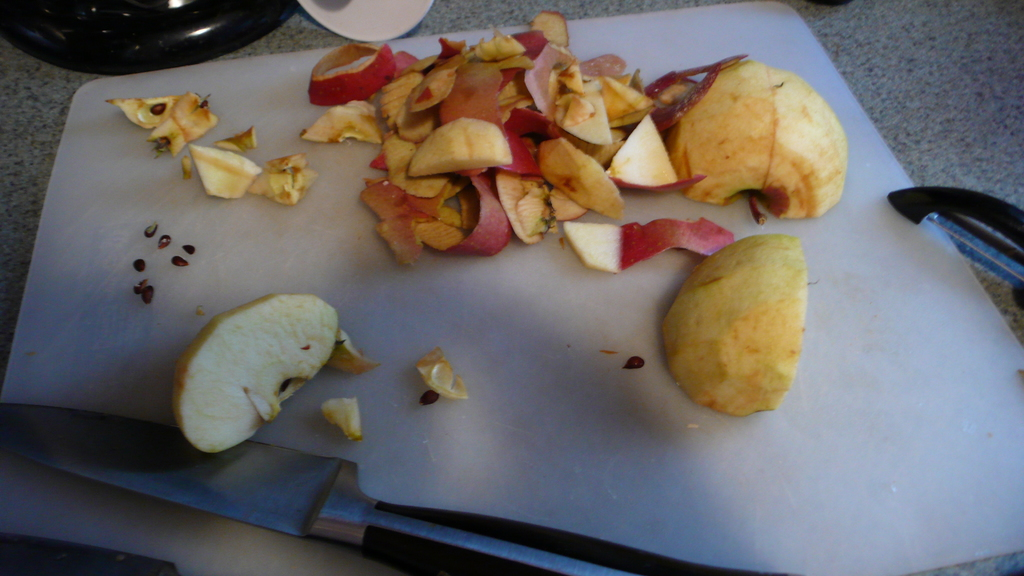Apple: (650, 52, 857, 227), (168, 277, 347, 455), (663, 232, 813, 417)
